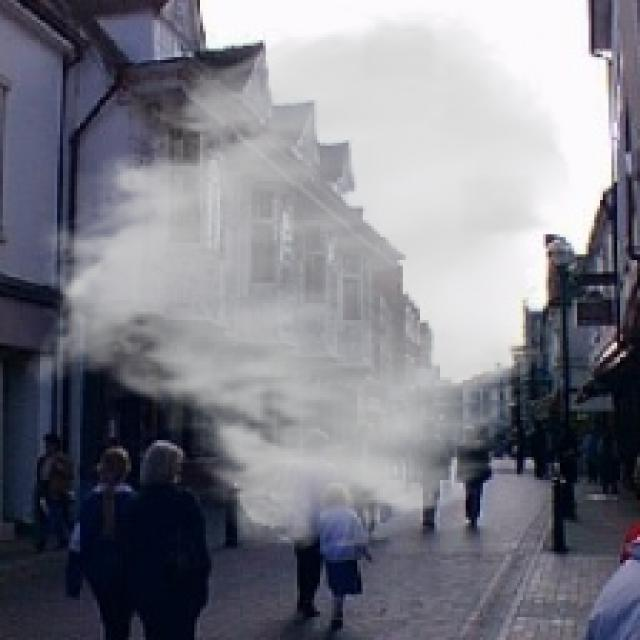smoke: (23, 6, 574, 554)
